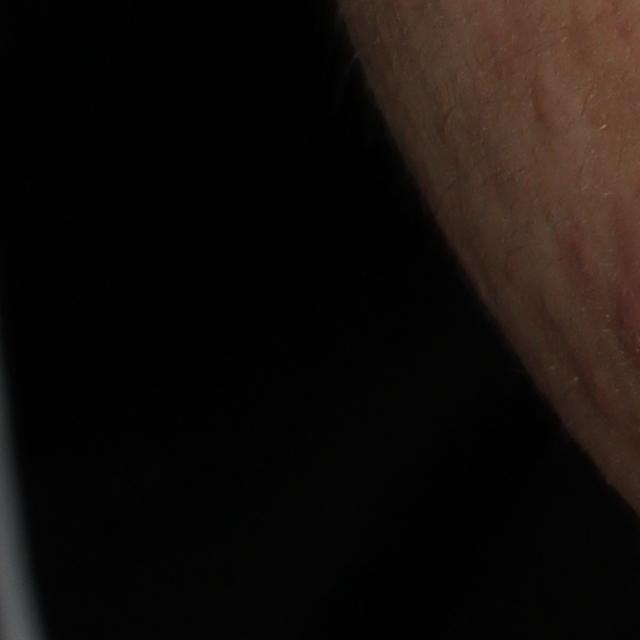papule: (575, 363, 620, 421)
